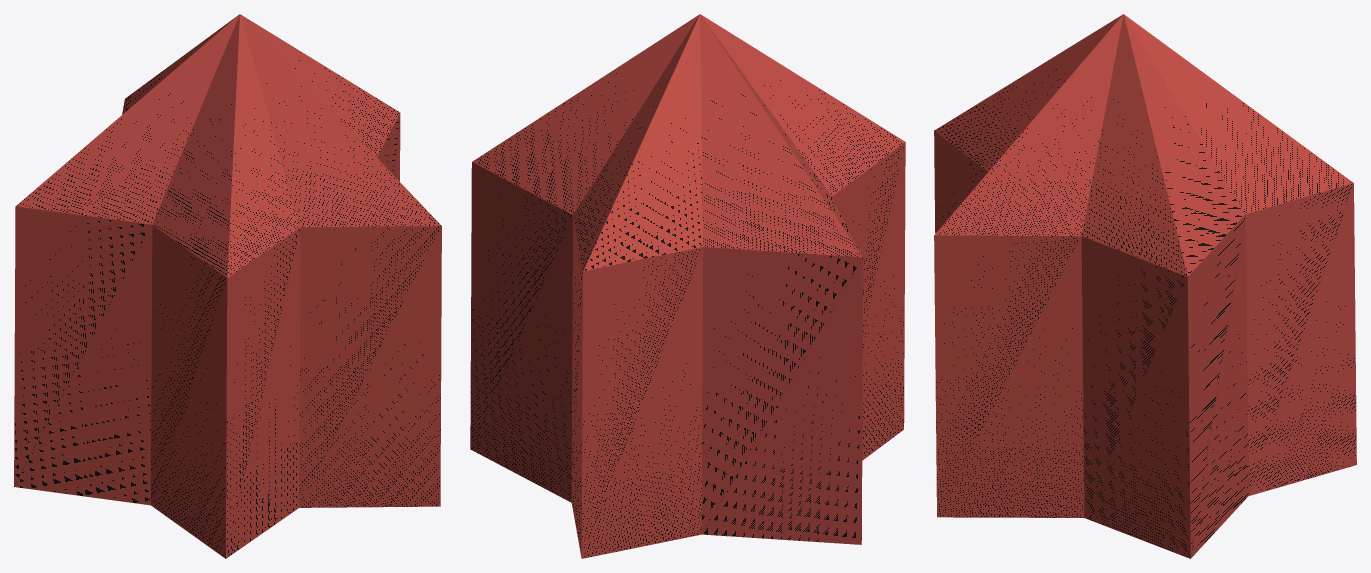
Rendered from DL_Obj_Level5_AltarCrystalStar.fbx.
The picture shows the model from 3 angles, left to right: view 1: azimuth 30°, elevation 25°; view 2: azimuth 150°, elevation 25°; view 3: azimuth 270°, elevation 25°; orthographic projection.
Parts seen in each view (by area): view 1: Level5_AltarCrystalStar; view 2: Level5_AltarCrystalStar; view 3: Level5_AltarCrystalStar.
Boxes of the visible parts, x1,y1,x2,y2 form: Level5_AltarCrystalStar: [14, 14, 441, 558]; Level5_AltarCrystalStar: [470, 14, 905, 558]; Level5_AltarCrystalStar: [934, 14, 1356, 558].
Bounding box in the file's own units: 71.51 × 80 × 67.97.
